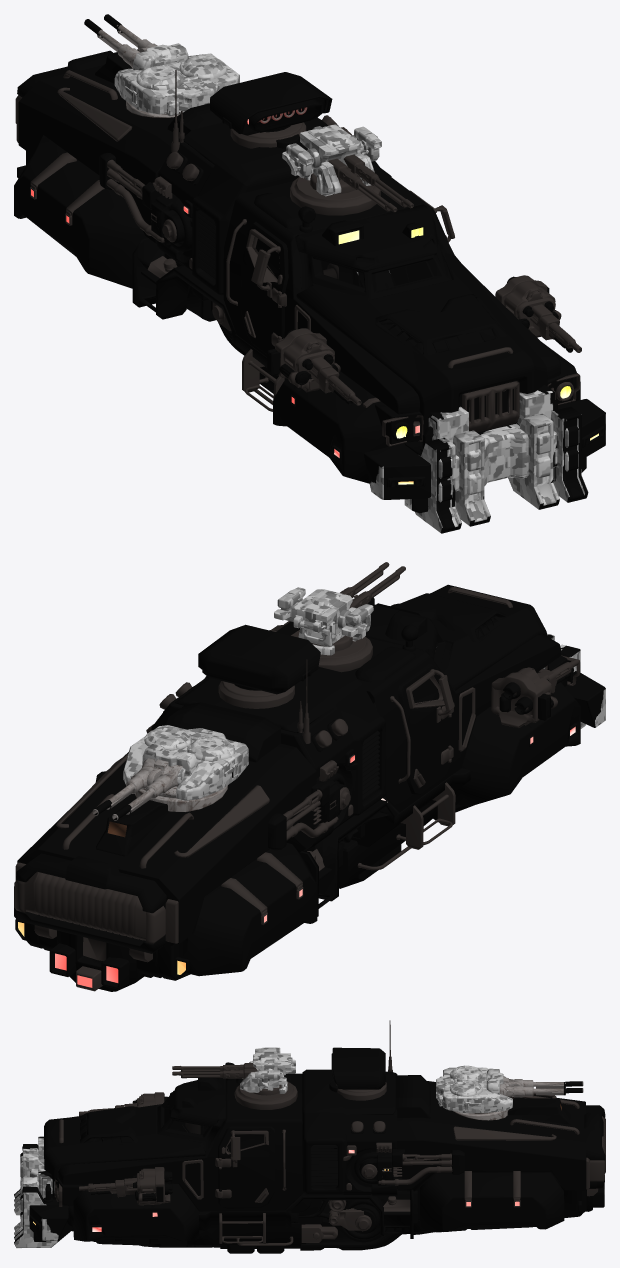
File: dominion_transport.glb
The picture shows the model from 3 angles, top to bottom: view 1: azimuth 30°, elevation 25°; view 2: azimuth 150°, elevation 25°; view 3: azimuth 270°, elevation 25°; orthographic projection. The views are drawn at different scales.
Parts seen in each view (by area): view 1: Armored Cyberpunk Hovertank truck body_Baked_Armored Cyberpu (×7); view 2: Armored Cyberpunk Hovertank truck body_Baked_Armored Cyberpu (×9); view 3: Armored Cyberpunk Hovertank truck body_Baked_Armored Cyberpu (×8).
Boxes of the visible parts, <box> form: Armored Cyberpunk Hovertank truck body_Baked_Armored Cyberpu (×7): <box>14,14,605,533</box>; Armored Cyberpunk Hovertank truck body_Baked_Armored Cyberpu (×9): <box>14,562,605,991</box>; Armored Cyberpunk Hovertank truck body_Baked_Armored Cyberpu (×8): <box>14,1020,605,1253</box>.
Bounding box in the file's own units: 2.38 × 2.46 × 6.39.
Materials: 11 (7 with a texture image).
